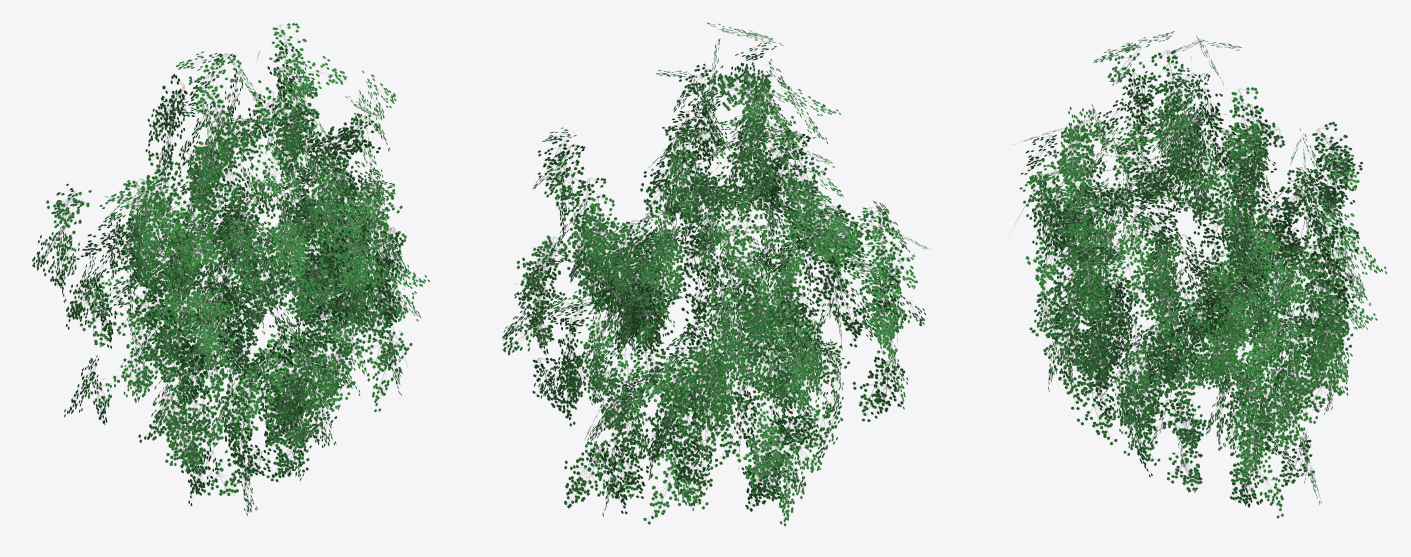
File: arbre_bouleau2_loin.glb
3 views of the same model, side by side, from view 1: azimuth 30°, elevation 25°; view 2: azimuth 150°, elevation 25°; view 3: azimuth 270°, elevation 25° (orthographic).
Visible parts, largest first — view 1: arbre_bouleau2_loin; view 2: arbre_bouleau2_loin; view 3: arbre_bouleau2_loin.
Boxes of the visible parts, bbox=[...] form: arbre_bouleau2_loin: bbox=[32, 23, 429, 515]; arbre_bouleau2_loin: bbox=[502, 22, 930, 526]; arbre_bouleau2_loin: bbox=[1014, 31, 1386, 518].
Bounding box in the file's own units: 7.09 × 9.18 × 7.14.
Materials: 2 (2 with a texture image).
